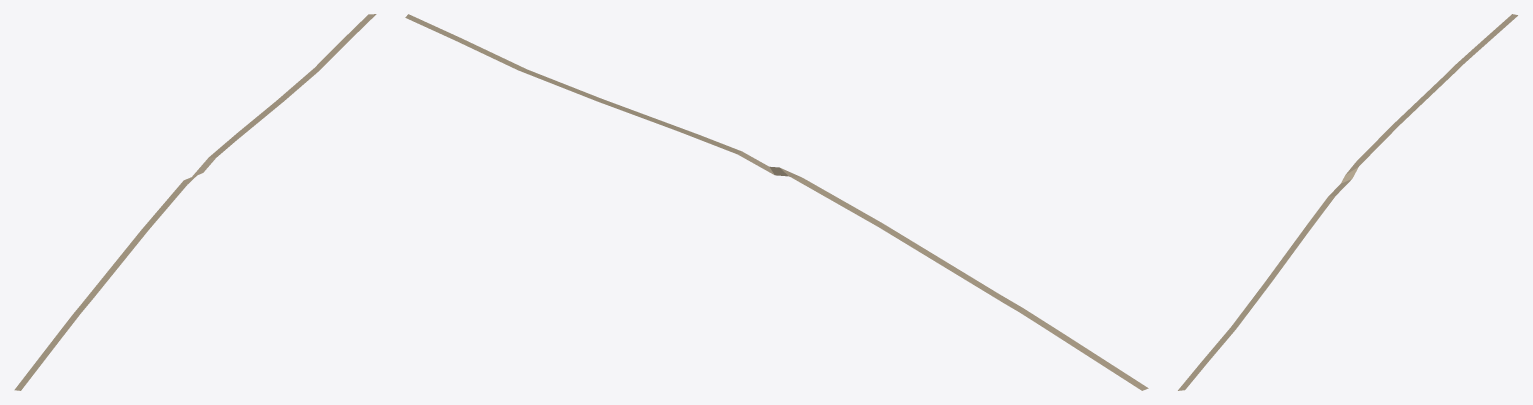
The model's file is farm_9_-3_track.glb.
3 views of the same model, side by side, from view 1: azimuth 90°, elevation 25°; view 2: azimuth 150°, elevation 25°; view 3: azimuth 270°, elevation 25° (orthographic). The views are drawn at different scales.
Visible parts, largest first — view 1: geometry_0; view 2: geometry_0; view 3: geometry_0.
Boxes of the visible parts, bbox=[...] form: geometry_0: bbox=[14, 14, 376, 390]; geometry_0: bbox=[405, 14, 1148, 390]; geometry_0: bbox=[1178, 14, 1517, 390].
Size of the model in its own units: 421 by 18.19 by 166.
